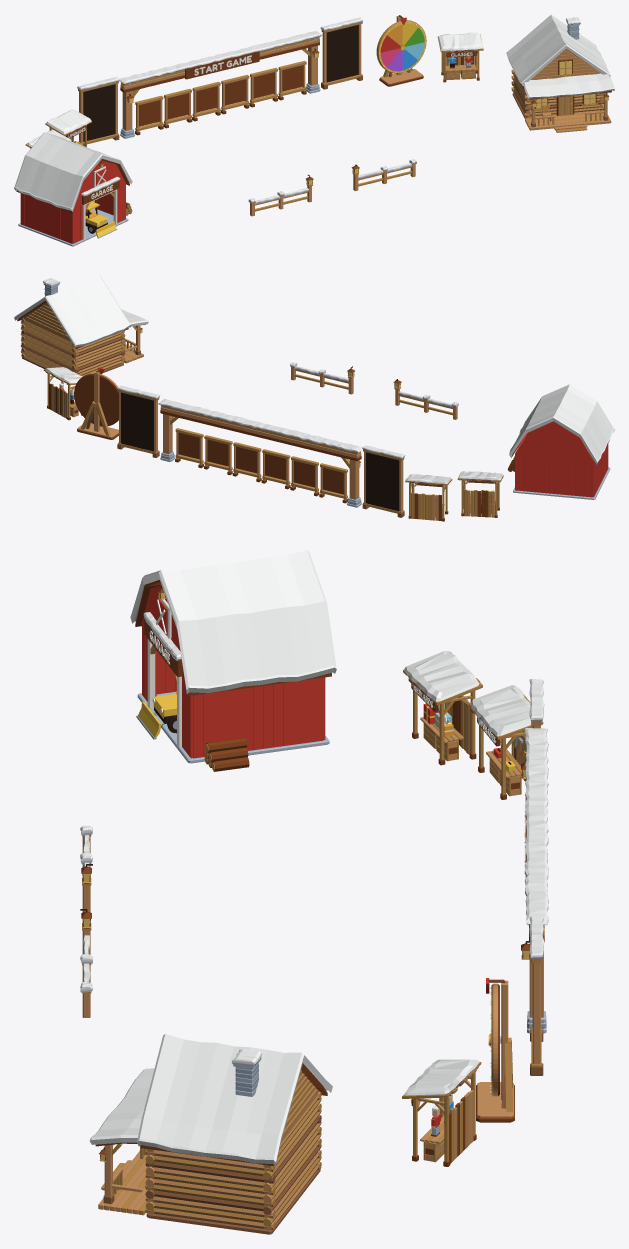
Rendered from FarmyardProps.glb.
3 renders of one model, top to bottom at view 1: azimuth 30°, elevation 25°; view 2: azimuth 150°, elevation 25°; view 3: azimuth 270°, elevation 25°, orthographic. The views are drawn at different scales.
Visible parts, largest first — view 1: LogCabin, BarnGarage, StartGameArch, LeaderboardRight, LeaderboardLeft, PrizeWheel_Dial, Classes, Upgrades, LaunchStation04, LaunchStation01, LaunchStation02, LaunchStation03 (+6 smaller); view 2: BarnGarage, LogCabin, StartGameArch, LeaderboardLeft, LeaderboardRight, Rewards, Upgrades, PrizeWheel_Dial, Classes, PrizeWheel, LaunchStation04, LaunchStation06 (+6 smaller); view 3: LogCabin, BarnGarage, Rewards, Classes, StartGameArch, Upgrades, PrizeWheel, LeaderboardRight, GarageSnowplow, PrizeWheel_Dial, LanternFenceRight.
Boxes of the visible parts, left/top/right/bottom form: LogCabin: left=506, top=14, right=614, bottom=132; BarnGarage: left=14, top=132, right=132, bottom=246; StartGameArch: left=119, top=31, right=322, bottom=138; LeaderboardRight: left=320, top=17, right=362, bottom=89; LeaderboardLeft: left=77, top=76, right=119, bottom=146; PrizeWheel_Dial: left=376, top=20, right=426, bottom=73; Classes: left=437, top=32, right=483, bottom=82; Upgrades: left=45, top=109, right=91, bottom=147; LaunchStation04: left=220, top=74, right=249, bottom=114; LaunchStation01: left=135, top=95, right=163, bottom=135; LaunchStation02: left=163, top=89, right=192, bottom=128; LaunchStation03: left=192, top=81, right=220, bottom=121; BarnGarage: left=507, top=384, right=614, bottom=499; LogCabin: left=14, top=275, right=148, bottom=376; StartGameArch: left=158, top=399, right=362, bottom=507; LeaderboardLeft: left=362, top=445, right=405, bottom=517; LeaderboardRight: left=117, top=385, right=160, bottom=457; Rewards: left=457, top=471, right=503, bottom=517; Upgrades: left=405, top=474, right=452, bottom=521; PrizeWheel_Dial: left=74, top=373, right=118, bottom=426; Classes: left=43, top=367, right=82, bottom=420; PrizeWheel: left=77, top=367, right=118, bottom=439; LaunchStation04: left=232, top=442, right=261, bottom=482; LaunchStation06: left=175, top=428, right=203, bottom=468; LogCabin: left=89, top=1034, right=332, bottom=1234; BarnGarage: left=130, top=550, right=336, bottom=771; Rewards: left=403, top=651, right=482, bottom=765; Classes: left=402, top=1059, right=481, bottom=1166; StartGameArch: left=521, top=728, right=548, bottom=1033; Upgrades: left=469, top=685, right=543, bottom=799; PrizeWheel: left=476, top=978, right=514, bottom=1122; LeaderboardRight: left=529, top=916, right=544, bottom=1075; GarageSnowplow: left=136, top=692, right=176, bottom=739; PrizeWheel_Dial: left=488, top=983, right=499, bottom=1096; LanternFenceRight: left=80, top=909, right=92, bottom=1017.
Size of the model in its own units: 40.9 by 5.4 by 14.28.
Materials: 1 (1 with a texture image).
